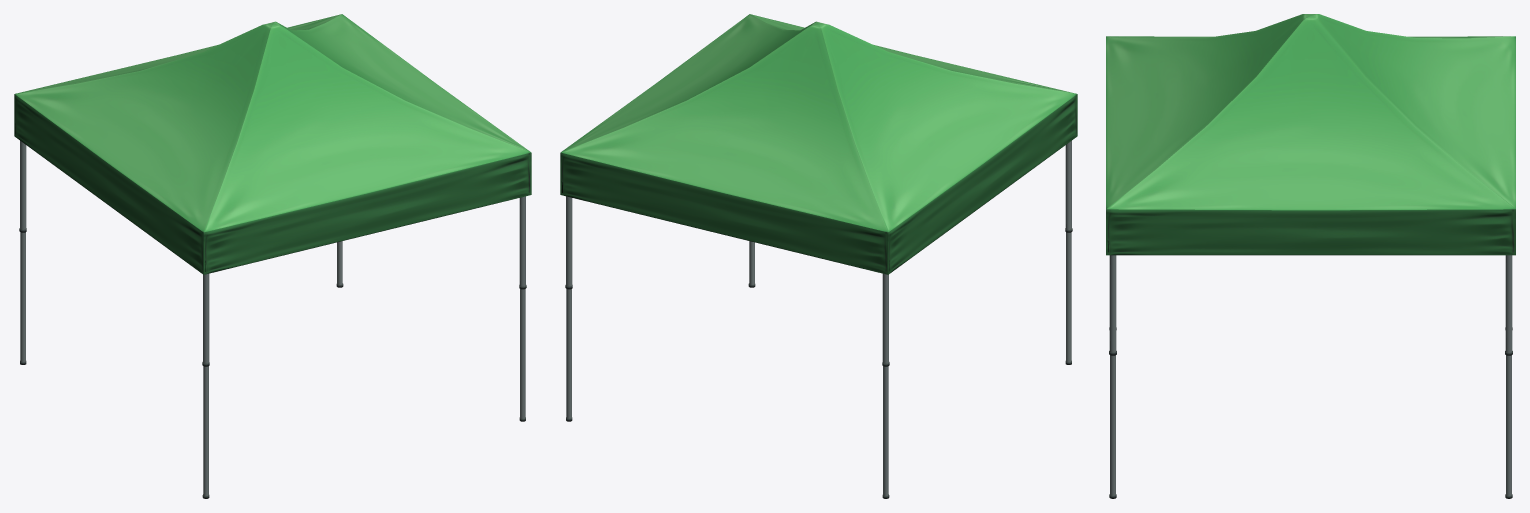
Rendered from tent.dae.
3 views of the same model, side by side, from view 1: azimuth 30°, elevation 25°; view 2: azimuth 150°, elevation 25°; view 3: azimuth 270°, elevation 25° (orthographic). The views are drawn at different scales.
Visible parts, largest first — view 1: Tent; view 2: Tent; view 3: Tent.
Part boxes in pixels (<box>): Tent: <box>14,14,531,498</box>; Tent: <box>560,14,1077,498</box>; Tent: <box>1106,14,1515,498</box>.
Size of the model in its own units: 300 by 300 by 321.
Materials: 1 (1 with a texture image).
